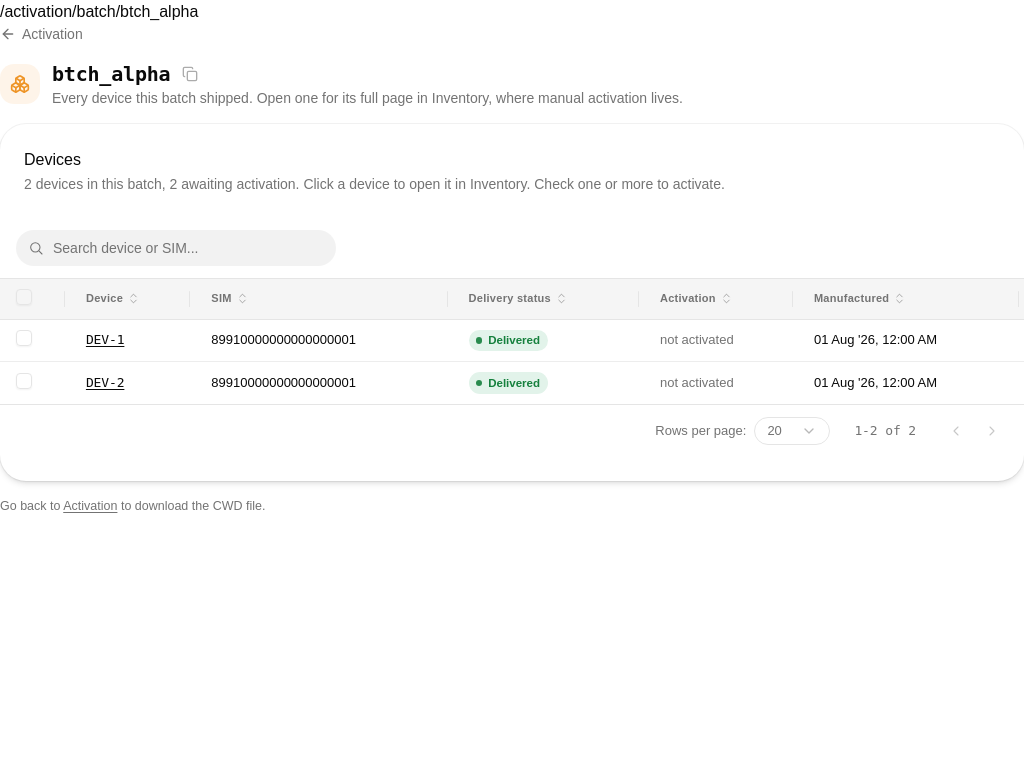
Test: ActivationBatchDevicesPage: multiselect activation › flips the Activation column on the rows the write confirmed, with no reload and no fresh read
Expected: the button "DEV-1" is shown, [86, 331, 124, 350]
Expected: the text "not activated" is shown 2 times, [660, 332, 734, 347]; [660, 375, 734, 390]
What coordinates should you click on to do the following:
click the checkbox named "select dev-1"
I would click on:
 (24, 338)
Its box is [16, 330, 32, 346].
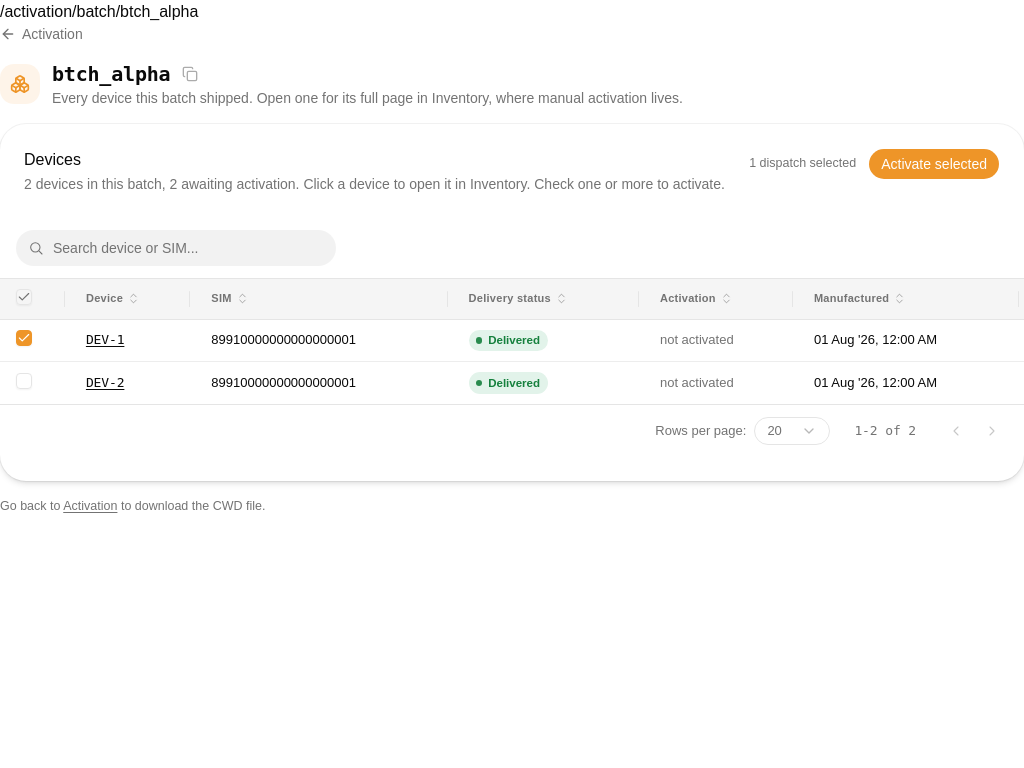
What coordinates should you click on to do the following:
click the button "Activate selected"
I would click on:
 (934, 164)
Its box is [868, 148, 1000, 180].
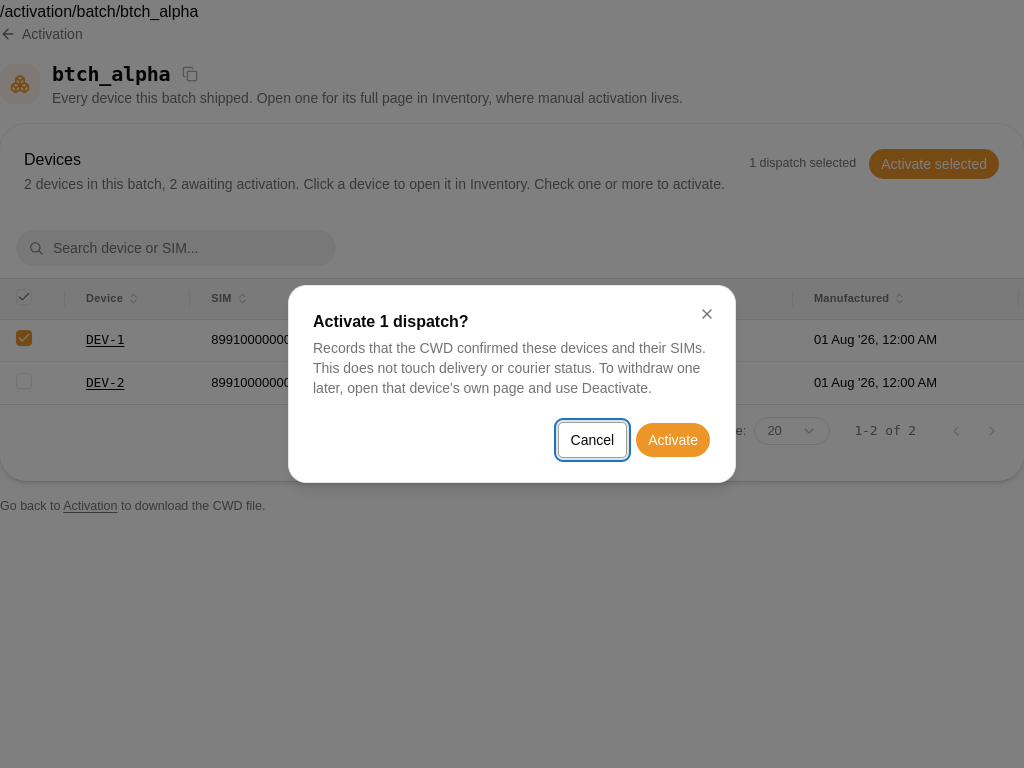
What coordinates should you click on to do the following:
click the button "Activate"
I would click on:
 (673, 440)
Its box is [635, 422, 711, 458].
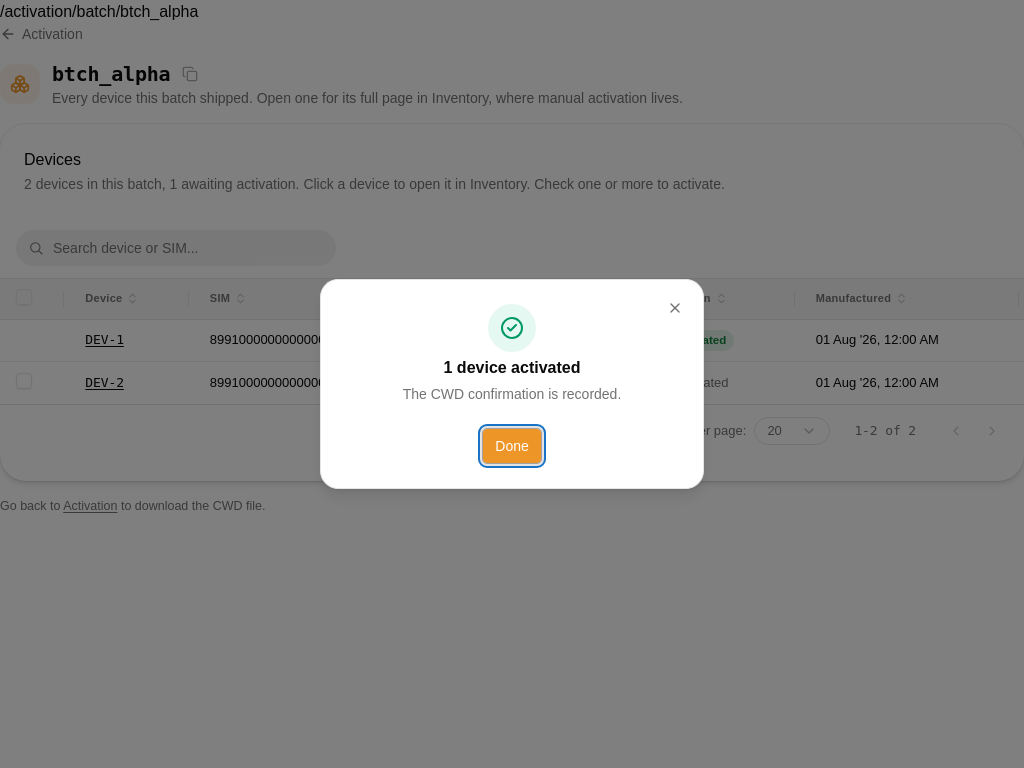
Expected: the text "Activated" is shown, [655, 330, 734, 351]
Expected: the text "not activated" is shown once, [655, 375, 728, 390]
Expected: the text "2 devices in this batch, 1 awaiting activation" is shown, [24, 176, 725, 192]
